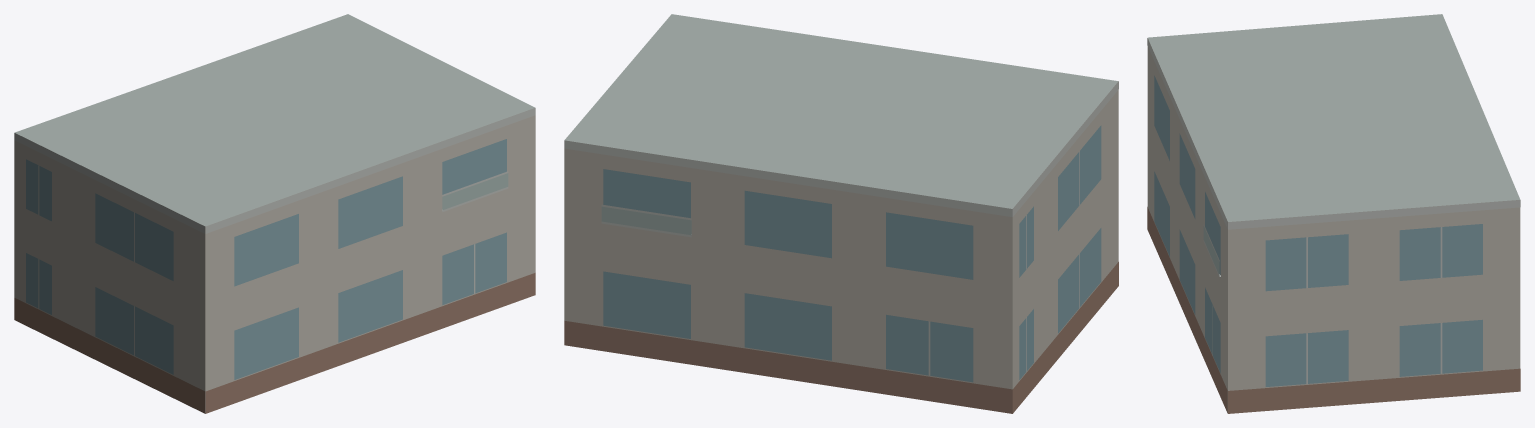
The model's file is survey-upis-32697246.glb.
3 renders of one model, left to right at view 1: azimuth 30°, elevation 25°; view 2: azimuth 150°, elevation 25°; view 3: azimuth 270°, elevation 25°, orthographic. The views are drawn at different scales.
Parts seen in each view (by area): view 1: survey-upis-32697246.tmp; view 2: survey-upis-32697246.tmp; view 3: survey-upis-32697246.tmp.
Part boxes in pixels (x1,y1,x2,y2): survey-upis-32697246.tmp: (14,14,535,413); survey-upis-32697246.tmp: (564,14,1118,413); survey-upis-32697246.tmp: (1147,14,1520,413).
Bounding box in the file's own units: 14.21 × 6.1 × 10.76.
